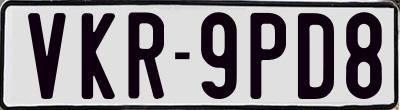8: (346, 10, 385, 101)
9: (198, 11, 237, 100)
D: (298, 11, 340, 98)
K: (79, 12, 115, 102)
P: (247, 13, 287, 99)
R: (126, 9, 165, 97)
V: (27, 10, 69, 102)
